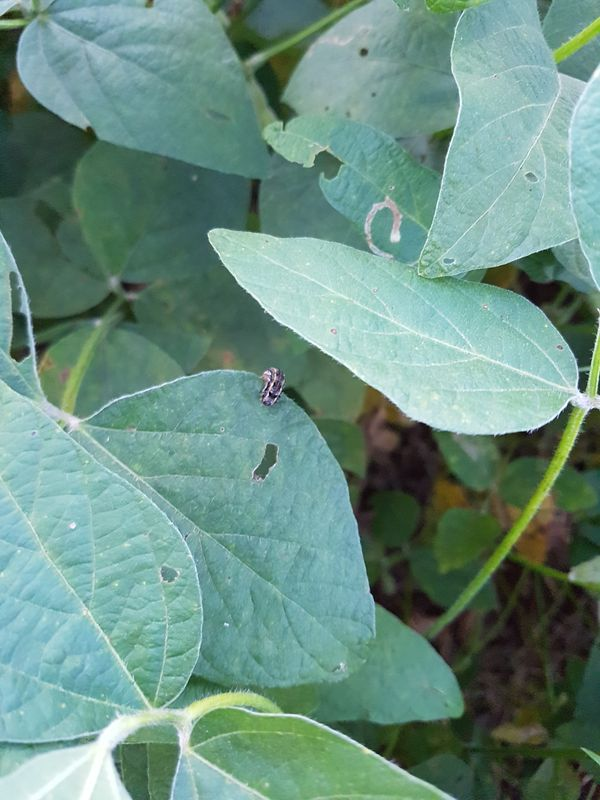Spodoptera_albula: (244, 355, 296, 413)
